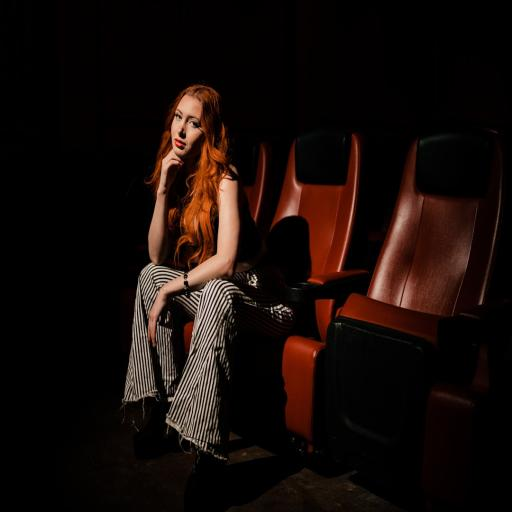face: (171, 95, 205, 162)
